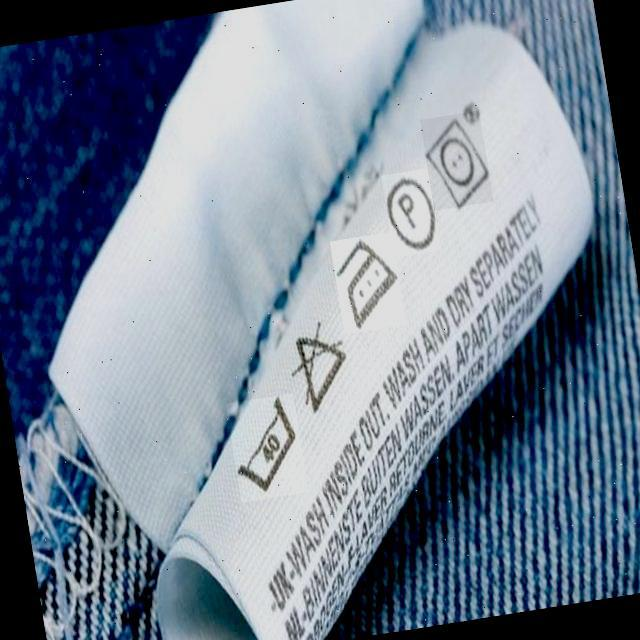40C: (237, 397, 301, 492)
DN_bleach: (295, 326, 350, 412)
dry_clean_any_solvent_except_trichloroethylene: (387, 178, 436, 249)
iron_high: (336, 238, 402, 322)
tumble_dry_medium: (425, 119, 492, 206)
